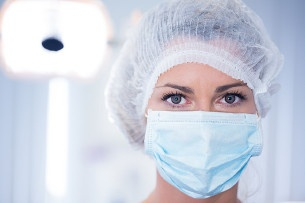Mask: (142, 75, 263, 196)
